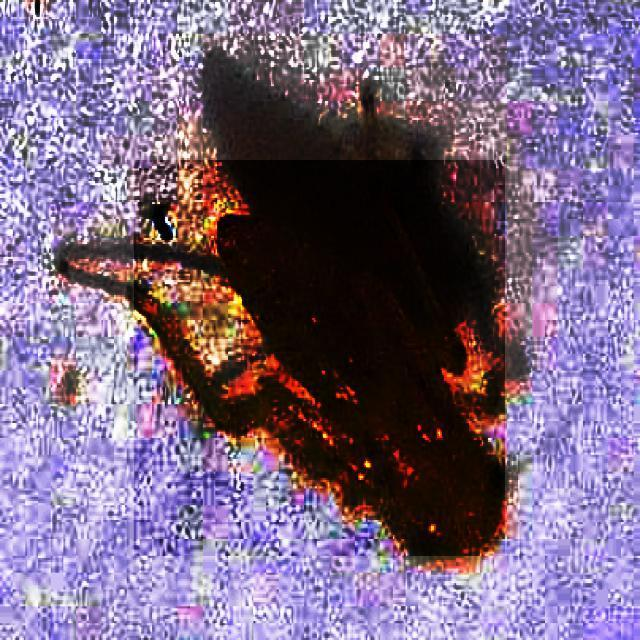green-leafhopper: (134, 160, 505, 556)
